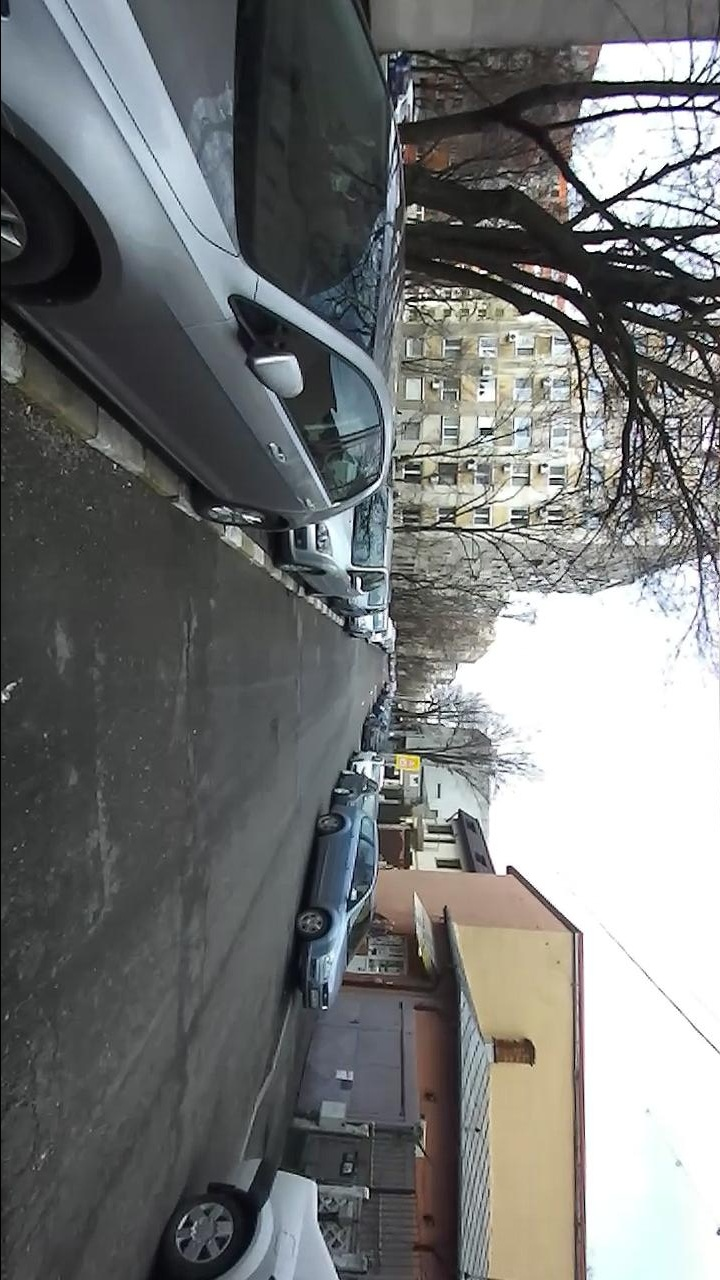pothole: (170, 606, 201, 694)
